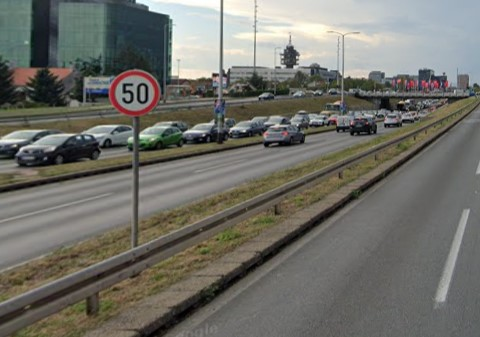Ograničenje brzine 50: (108, 69, 161, 117)
